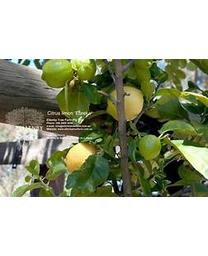lemon: (105, 86, 144, 122), (41, 59, 73, 86), (138, 133, 161, 157)
